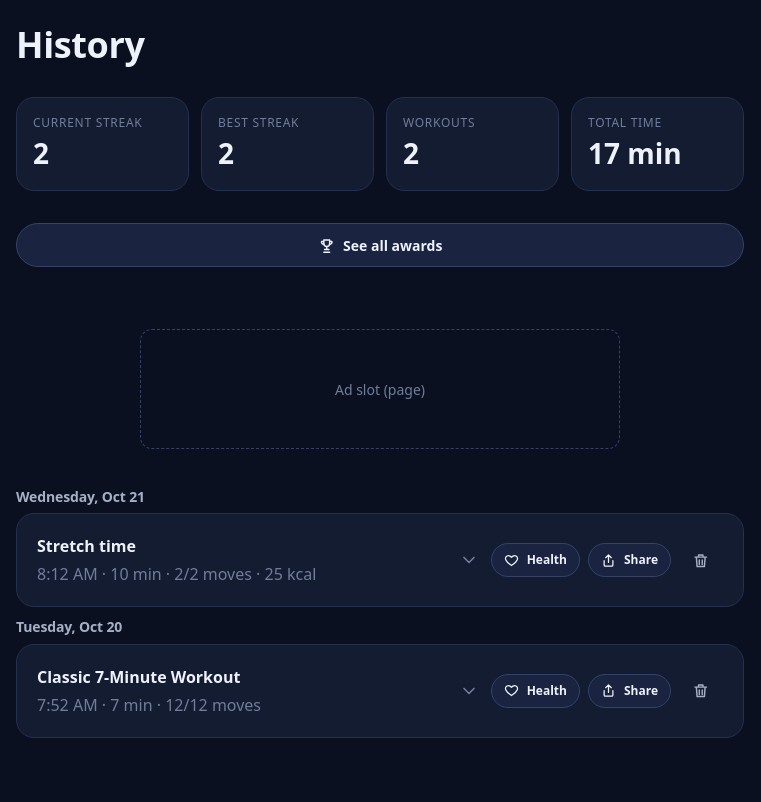
Scenario: history details › expands an entry to show times, calories, type, muscles, and exercises
Step 1. Click the button "Stretch time 8:12 AM · 10 min · 2/2 moves · 25 kcal" → x=258, y=560, box [37,534,479,586]
(page scrolled)
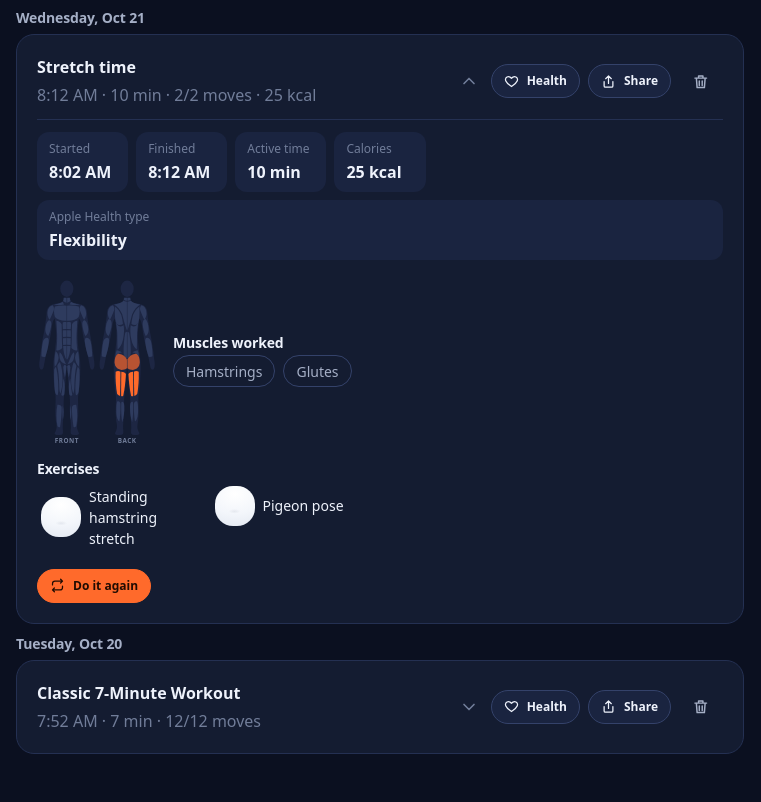
Now the text "Started" is shown, box [49,140,90,158]
Now the text "25 kcal" is shown, box [346,162,402,184]
Now the text "Flexibility" is shown, box [49,230,127,252]
Step 2. Click the button "Classic 7-Minute Workout 7:52 AM · 7 min · 12/12 moves" → x=258, y=707, box [37,681,479,733]
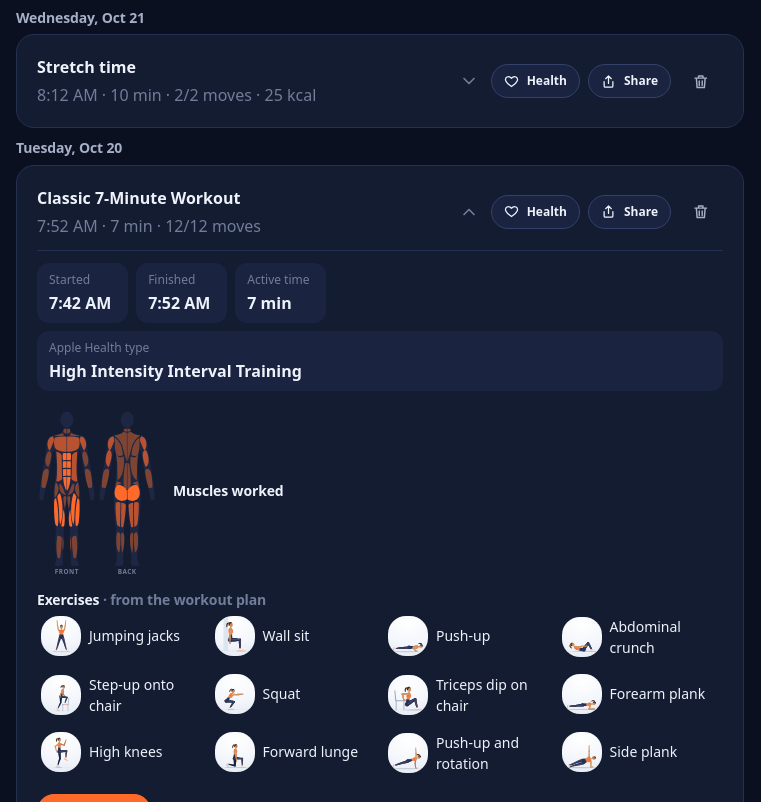
Now the text "· from the workout plan" is shown, box [99,590,266,609]
Now the text "Jumping jacks" is shown, box [89,625,180,646]
Now the text "High Intensity Interval Training" is shown, box [49,360,302,382]
